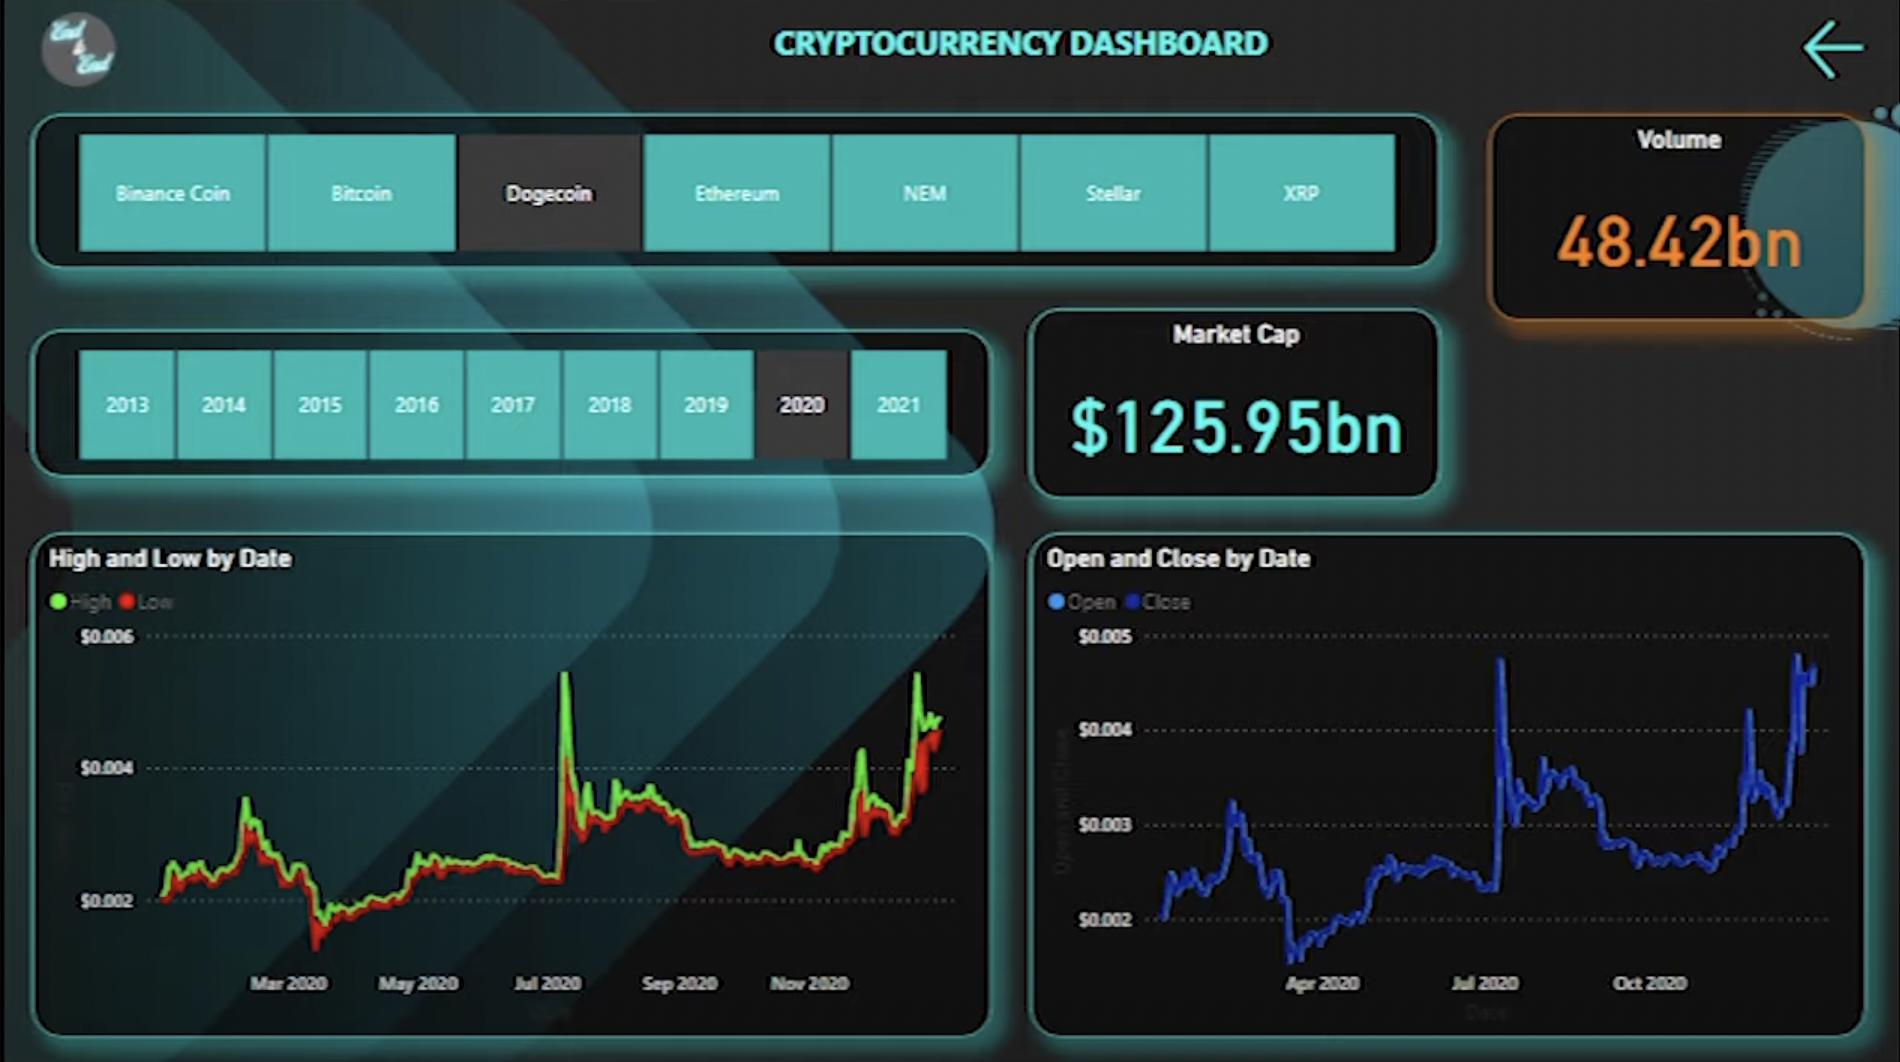

The page's visual inventory and layout, read from the dashboard file:
{"tool":"powerbi","page":{"name":"Page 2","canvas":[1280,720],"ordinal":1},"visuals":[{"type":"slicer","fields":{"Values":["CryptoData.Name"]},"box":[49.6,58.1,922.7,106.3],"z":0},{"type":"slicer","fields":{"Values":["CryptoData.Year"]},"box":[42.5,206.9,943.9,92.1],"z":1000},{"type":"lineChart","fields":{"Y":["Sum(CryptoData.Low)","Sum(CryptoData.High)"],"Category":["CryptoData.Date"]},"box":[17,309,612.3,382.7],"z":2000},{"type":"actionButton","box":[1199.1,18.4,80.8,39.7],"z":3000},{"type":"textbox","box":[391.2,12.8,497.5,51],"z":4000},{"type":"card","title":"Volume","fields":{"Values":["Sum(CryptoData.Volume)"]},"box":[1012,69.4,204.1,85],"z":5000},{"type":"card","title":"Market Cap","fields":{"Values":["Sum(CryptoData.Marketcap)"]},"box":[1012,206.9,219.7,85],"z":6000},{"type":"lineChart","fields":{"Y":["Sum(CryptoData.Open)","Sum(CryptoData.Close)"],"Category":["CryptoData.Date"]},"box":[664.7,309,599.5,382.7],"z":7000}]}

Visuals, with their boxes in screenshot pixels (x1, y1, x2, y2), scaled from the page's 1280x720 canvas onto the 1900x1062 screenshot:
slicer - CryptoData.Name: {"left": 74, "top": 86, "right": 1443, "bottom": 242}
slicer - CryptoData.Year: {"left": 63, "top": 305, "right": 1464, "bottom": 441}
lineChart - Sum(CryptoData.Low) x Sum(CryptoData.High): {"left": 25, "top": 456, "right": 934, "bottom": 1020}
actionButton: {"left": 1780, "top": 27, "right": 1899, "bottom": 86}
textbox: {"left": 581, "top": 19, "right": 1319, "bottom": 94}
"Volume" card: {"left": 1502, "top": 102, "right": 1805, "bottom": 228}
"Market Cap" card: {"left": 1502, "top": 305, "right": 1828, "bottom": 431}
lineChart - Sum(CryptoData.Open) x Sum(CryptoData.Close): {"left": 987, "top": 456, "right": 1877, "bottom": 1020}
